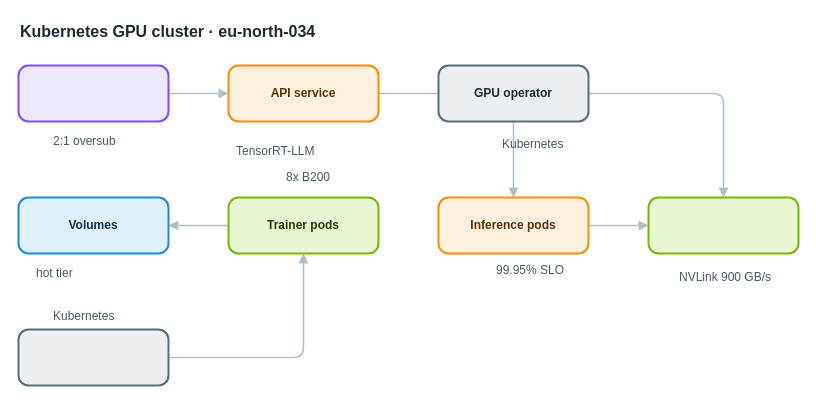
The diagram is 816 pixels wide and 403 high, and some of its shapes have lost their labels. The shapes that lost their labels are listed below. From the top down, each one's centre as x and y in pixels, then its label:
At (x=93, y=93): "Ingress".
At (x=723, y=225): "GPU node A".
At (x=93, y=357): "Prometheus".
